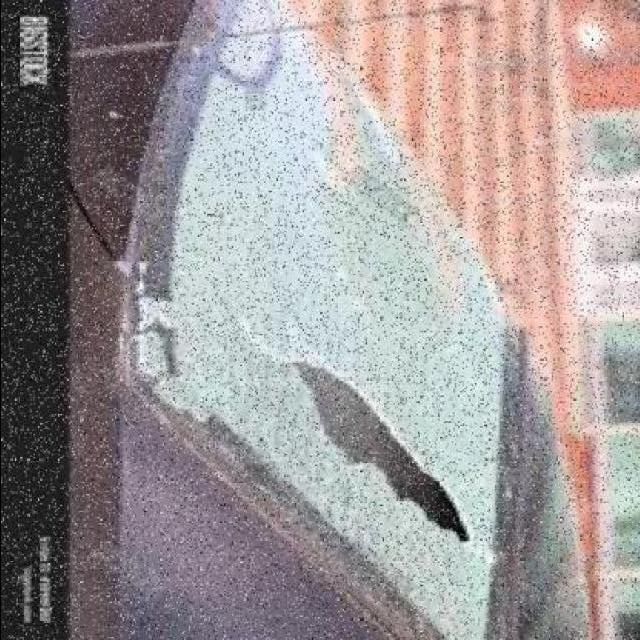Rear-windscreen-Damage: (125, 31, 561, 612)
